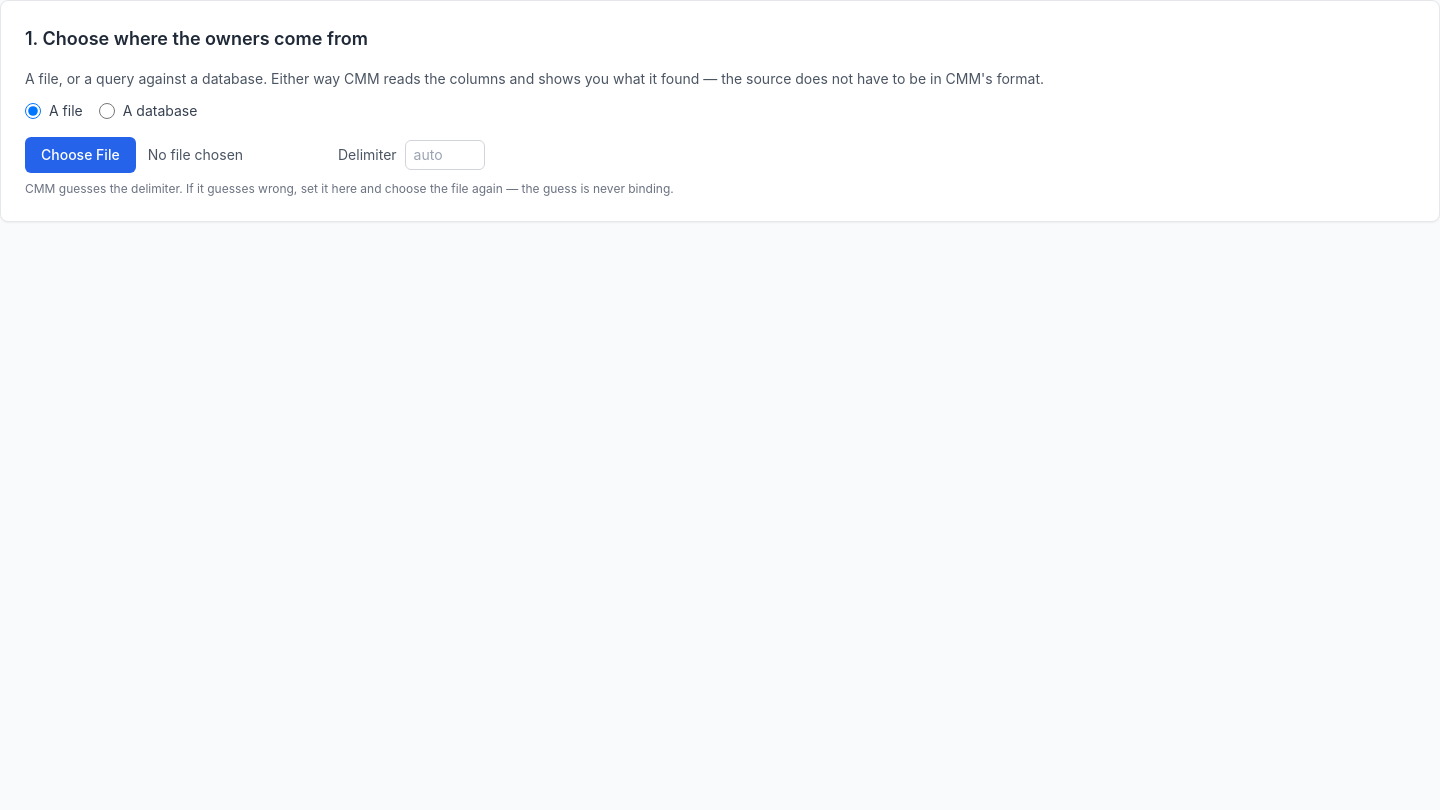
Scenario: browsing the database › lists the tables and views the connection can see
Step 1. Click the radio button labelled "A database" → (107, 111), box [99,103,115,119]
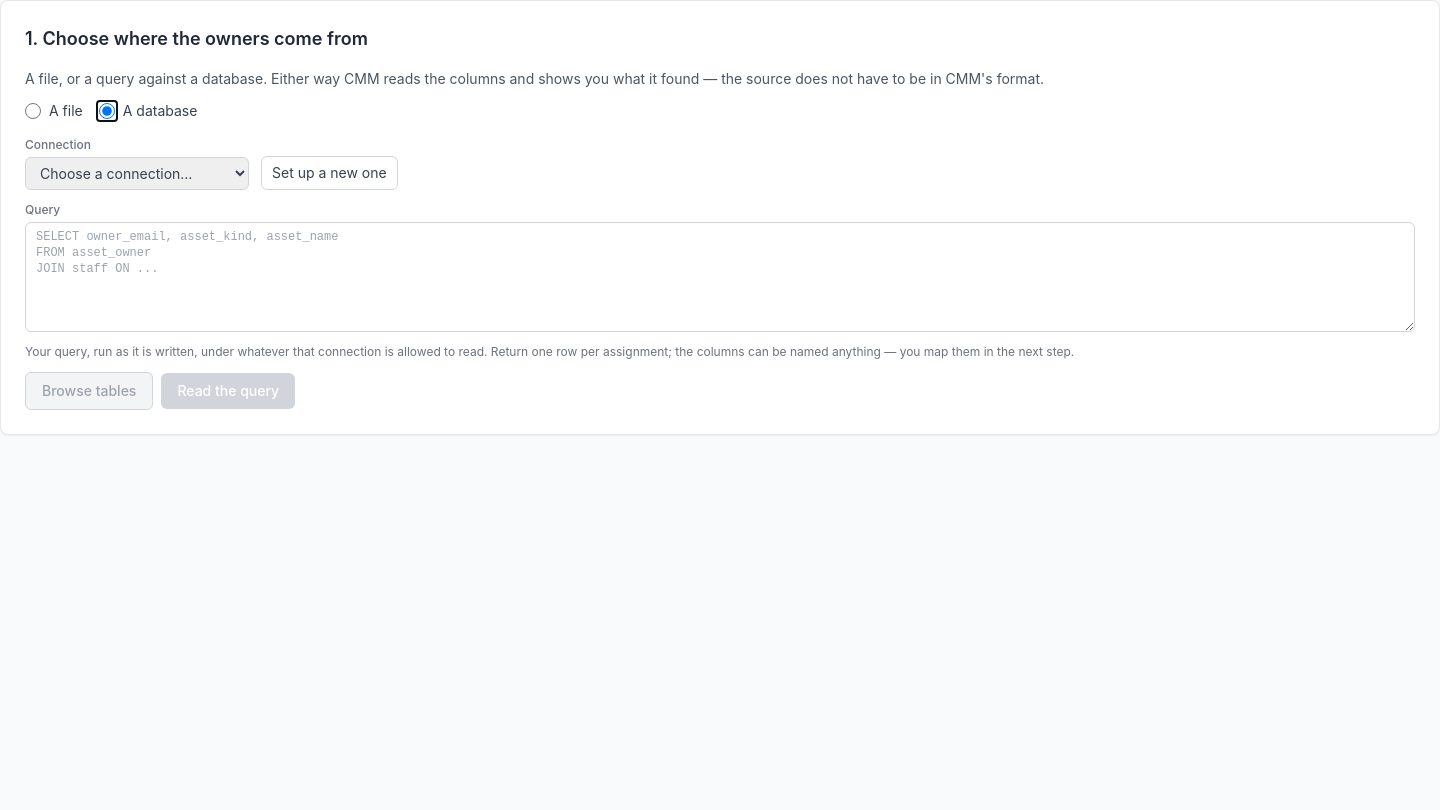
Step 2. Select "cmdb-connection" in the dropdown labelled "Connection" → (137, 174), box [25,157,249,190]
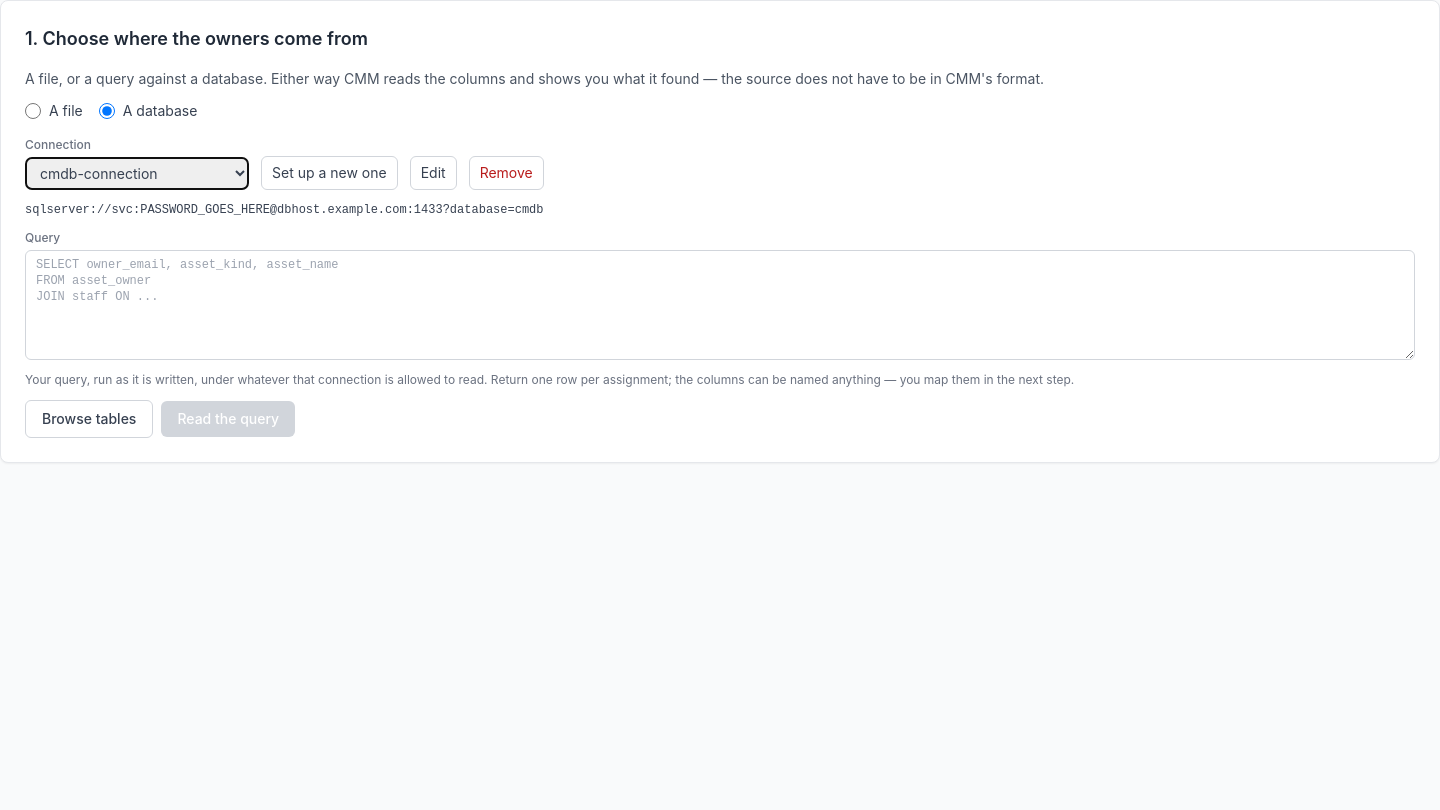
Step 3. Click the button "Browse tables" → (89, 419), box [25,400,153,438]
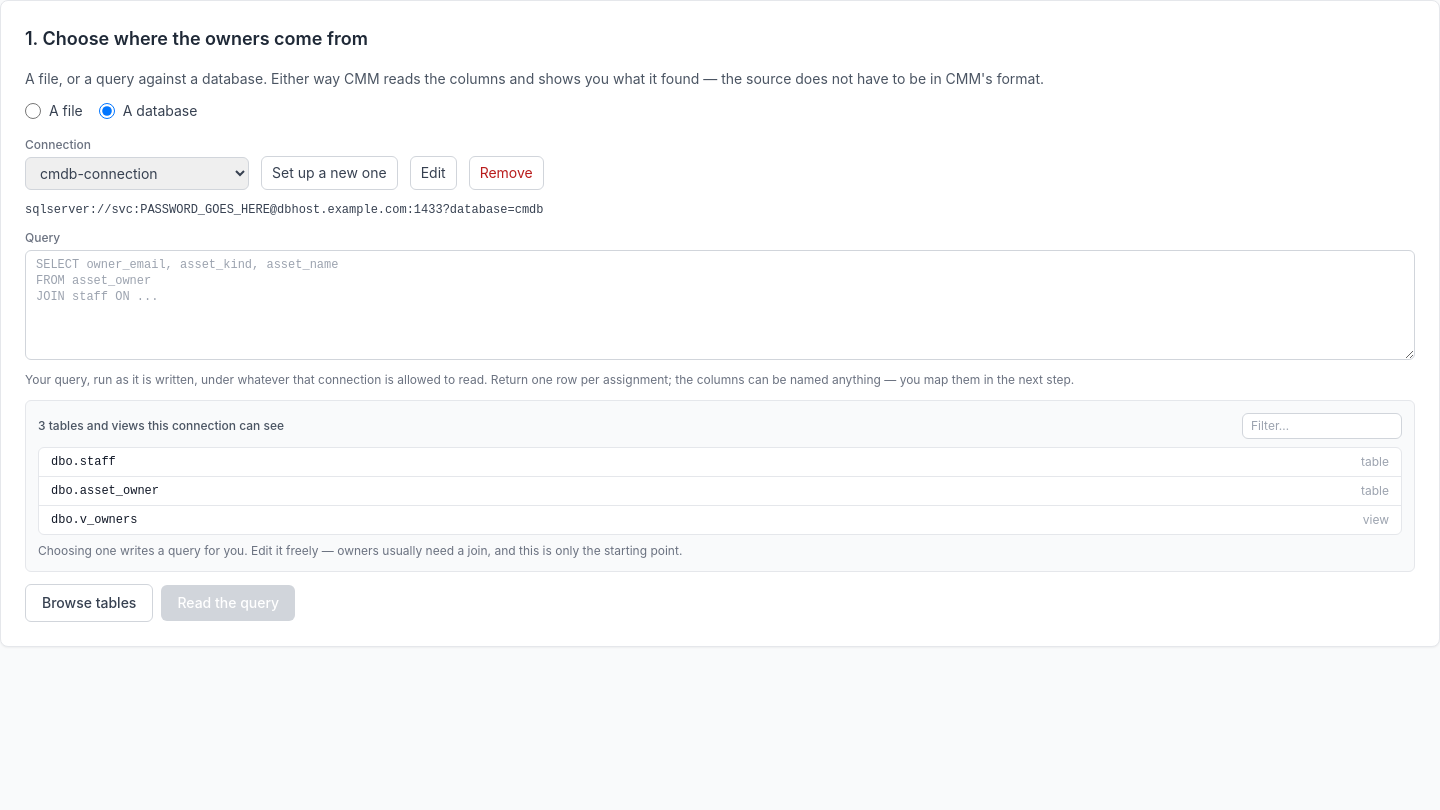
Check: the text "dbo.staff" is shown, box [51,454,116,470]
Check: the text "dbo.asset_owner" is shown, box [51,483,159,499]
Check: the text "dbo.v_owners" is shown, box [51,512,137,528]
